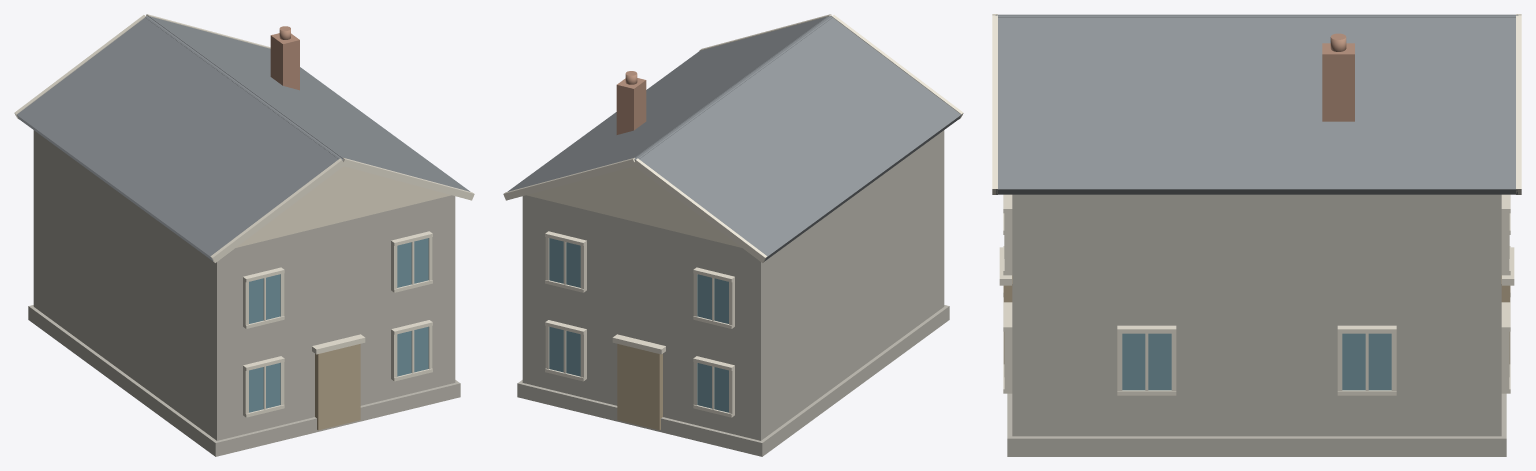
The model's file is tyne-stone-house_lod0.glb.
The picture shows the model from 3 angles, left to right: view 1: azimuth 30°, elevation 25°; view 2: azimuth 150°, elevation 25°; view 3: azimuth 270°, elevation 25°; orthographic projection. The views are drawn at different scales.
Parts seen in each view (by area): view 1: RF_Body, RF_Roof.001, RF_Roof, RF_Foundation, RF_Gable, RF_Door.001, RF_Vergeband.001, RF_Chimney, RF_Window.002, RF_Window.004, RF_Window.001, RF_Window.003 (+4 smaller); view 2: RF_Body, RF_Roof.001, RF_Roof, RF_Foundation, RF_Gable.001, RF_Door, RF_Chimney, RF_Vergeband.002, RF_Window.006, RF_Window.008, RF_Window.005, RF_Window.007 (+4 smaller); view 3: RF_Body, RF_Roof, RF_Foundation, RF_Window.009, RF_Window, RF_Chimney, RF_Ridge, RF_Vergeband.003, RF_Vergeband, RF_Roof.001, RF_WindowFrame.016, RF_WindowFrame.008 (+2 smaller).
Boxes of the visible parts, bbox=[...] form: RF_Body: bbox=[33, 130, 455, 440]; RF_Roof.001: bbox=[17, 17, 339, 261]; RF_Roof: bbox=[148, 16, 470, 191]; RF_Foundation: bbox=[28, 305, 460, 456]; RF_Gable: bbox=[236, 166, 450, 247]; RF_Door.001: bbox=[315, 344, 360, 430]; RF_Vergeband.001: bbox=[210, 158, 344, 262]; RF_Chimney: bbox=[270, 33, 299, 90]; RF_Window.002: bbox=[249, 274, 280, 323]; RF_Window.004: bbox=[397, 238, 428, 287]; RF_Window.001: bbox=[249, 363, 280, 412]; RF_Window.003: bbox=[397, 326, 428, 376]; RF_Body: bbox=[522, 130, 944, 440]; RF_Roof.001: bbox=[638, 17, 960, 261]; RF_Roof: bbox=[507, 16, 829, 191]; RF_Foundation: bbox=[517, 305, 949, 456]; RF_Gable.001: bbox=[527, 166, 741, 247]; RF_Door: bbox=[617, 344, 662, 430]; RF_Chimney: bbox=[616, 78, 646, 134]; RF_Vergeband.002: bbox=[633, 158, 767, 262]; RF_Window.006: bbox=[697, 274, 728, 323]; RF_Window.008: bbox=[549, 238, 580, 287]; RF_Window.005: bbox=[697, 363, 728, 412]; RF_Window.007: bbox=[549, 326, 580, 376]; RF_Body: bbox=[1012, 194, 1501, 436]; RF_Roof: bbox=[996, 16, 1517, 194]; RF_Foundation: bbox=[1007, 393, 1506, 456]; RF_Window.009: bbox=[1122, 333, 1171, 390]; RF_Window: bbox=[1342, 333, 1391, 390]; RF_Chimney: bbox=[1322, 43, 1354, 121]; RF_Ridge: bbox=[995, 15, 1518, 17]; RF_Vergeband.003: bbox=[992, 15, 997, 194]; RF_Vergeband: bbox=[1516, 15, 1521, 194]; RF_Roof.001: bbox=[996, 14, 1517, 15]; RF_WindowFrame.016: bbox=[1501, 207, 1509, 275]; RF_WindowFrame.008: bbox=[1004, 207, 1012, 275].
Size of the model in its own units: 9.91 by 10.47 by 12.98.
